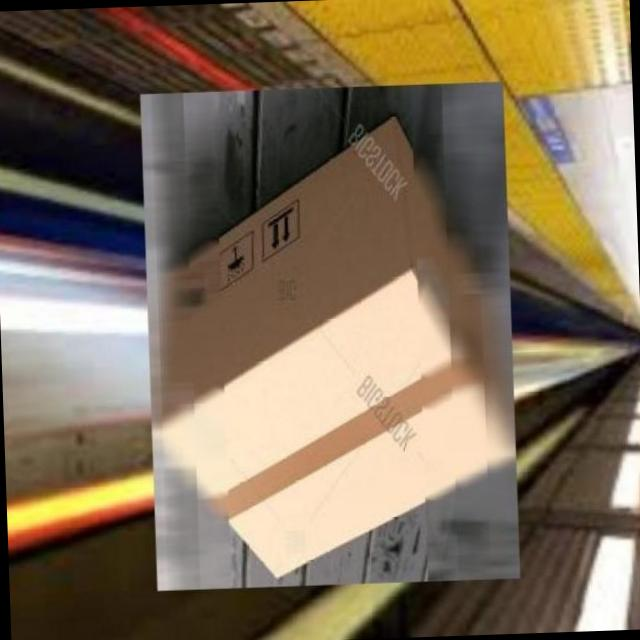box: (134, 71, 526, 598)
